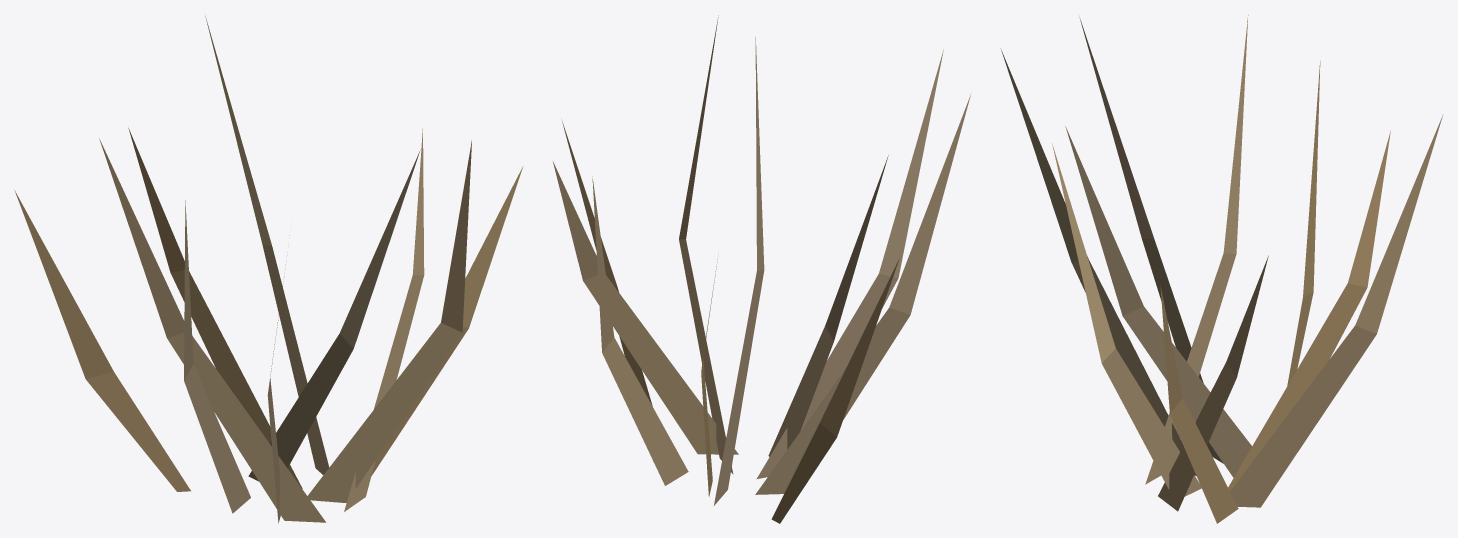
Rendered from Dead_Bush_b_03.fbx.
3 renders of one model, left to right at view 1: azimuth 30°, elevation 25°; view 2: azimuth 150°, elevation 25°; view 3: azimuth 270°, elevation 25°, orthographic. The views are drawn at different scales.
Parts seen in each view (by area): view 1: Dead_Bush_b_03; view 2: Dead_Bush_b_03; view 3: Dead_Bush_b_03.
Part boxes in pixels (x1=…): Dead_Bush_b_03: x1=14, y1=16, x2=523, y2=523; Dead_Bush_b_03: x1=553, y1=15, x2=971, y2=523; Dead_Bush_b_03: x1=1000, y1=15, x2=1443, y2=523.
Bounding box in the file's own units: 55.87 × 49.18 × 50.69.
